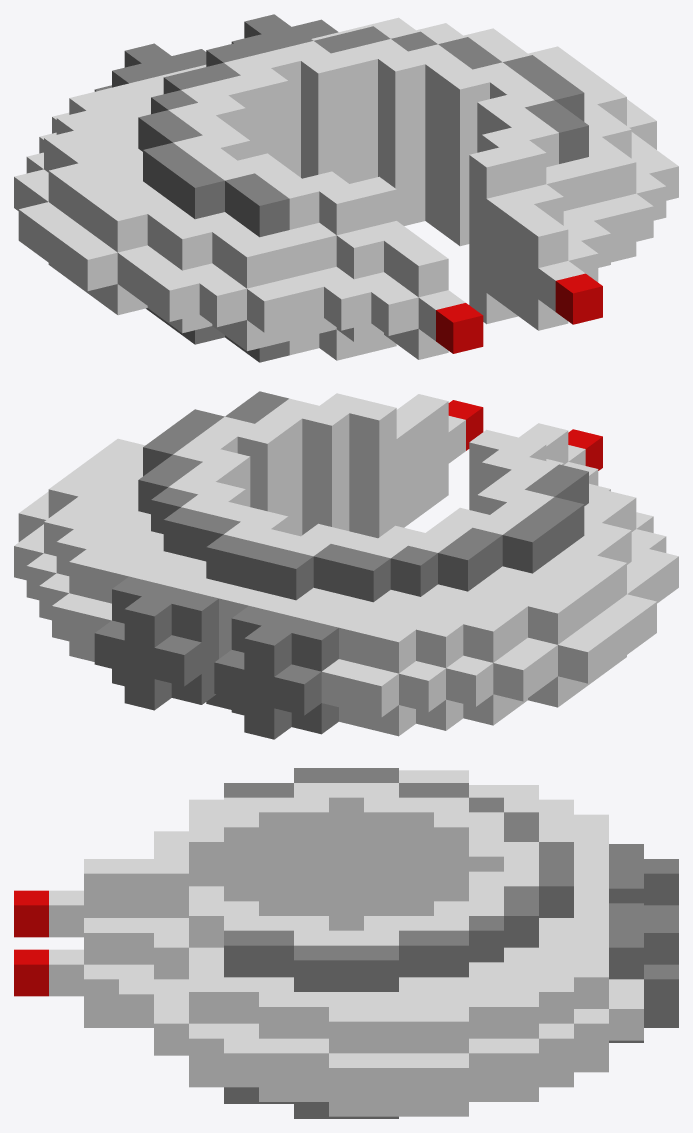
File: DroneV1.obj
3 renders of one model, top to bottom at view 1: azimuth 30°, elevation 25°; view 2: azimuth 150°, elevation 25°; view 3: azimuth 270°, elevation 25°, orthographic.
Size of the model in its own units: 1.9 by 0.5 by 1.9.
1 material, 1 textured.
